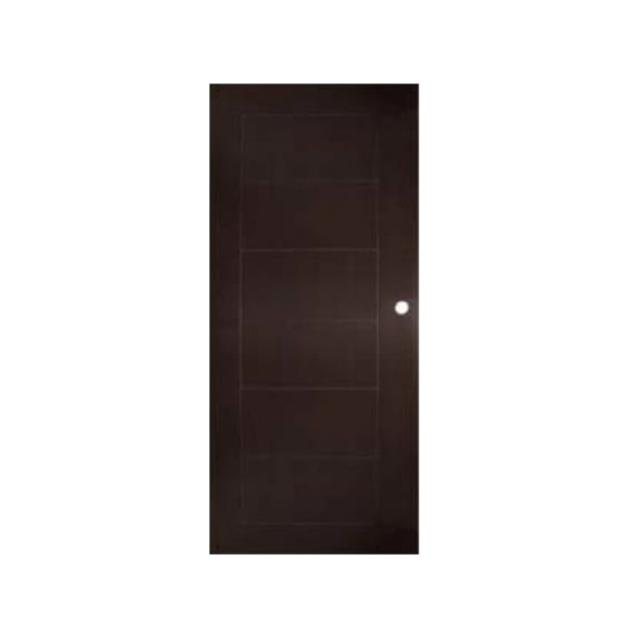door: (209, 83, 420, 554)
